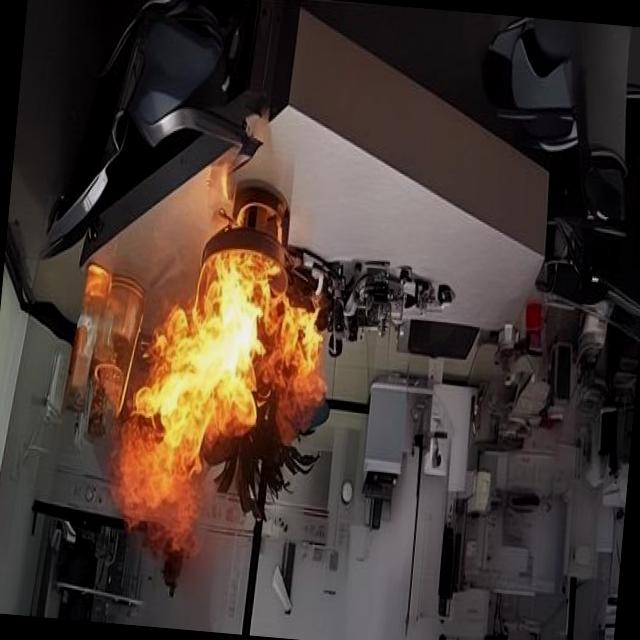fire: (101, 193, 346, 598)
